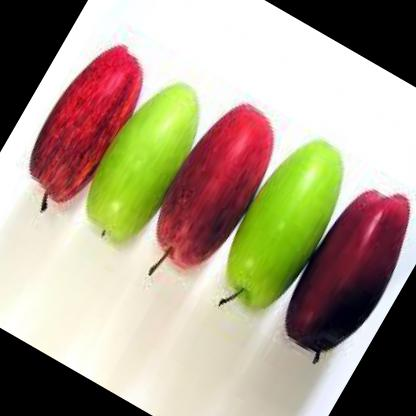apple: (197, 123, 370, 341), (127, 86, 298, 303), (266, 168, 416, 382), (69, 58, 227, 257), (7, 26, 164, 226)
